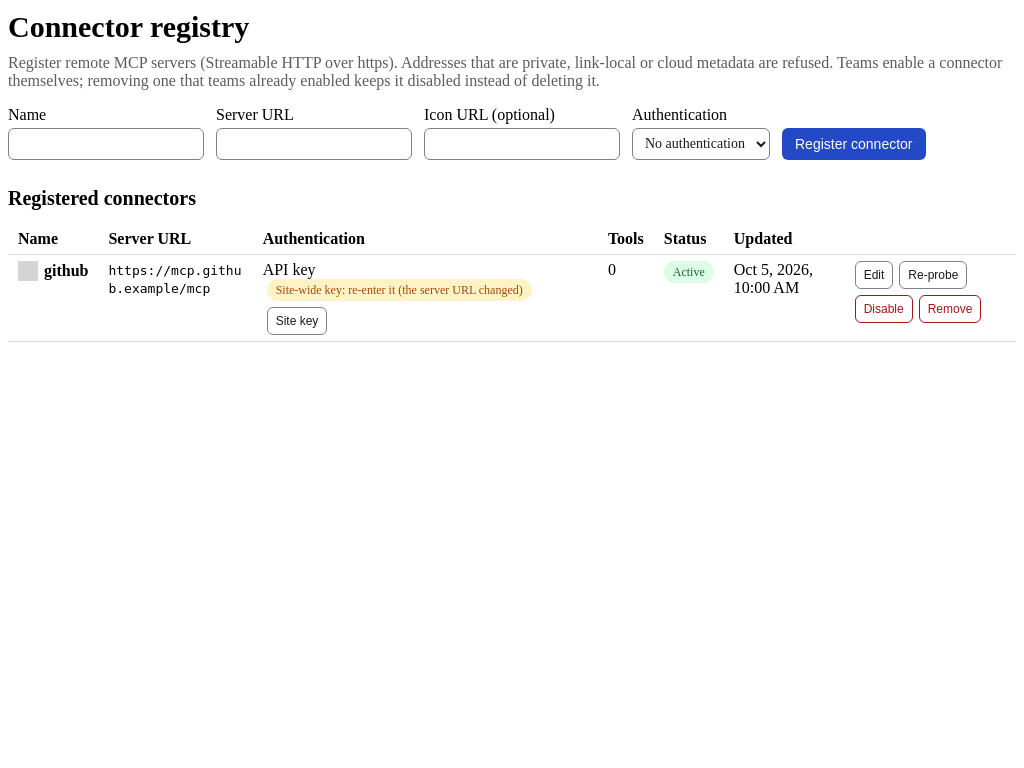
it: site-wide key review follow-ups › says to re-enter a key whose server URL changed (M2)
This screenshot has width=1024, height=768.
Expected: the text "Site-wide key: re-enter it (the server URL changed)" is shown, [267,278,532,300]
Click the button "Site key" at (297, 320), box [267,306,327,334]
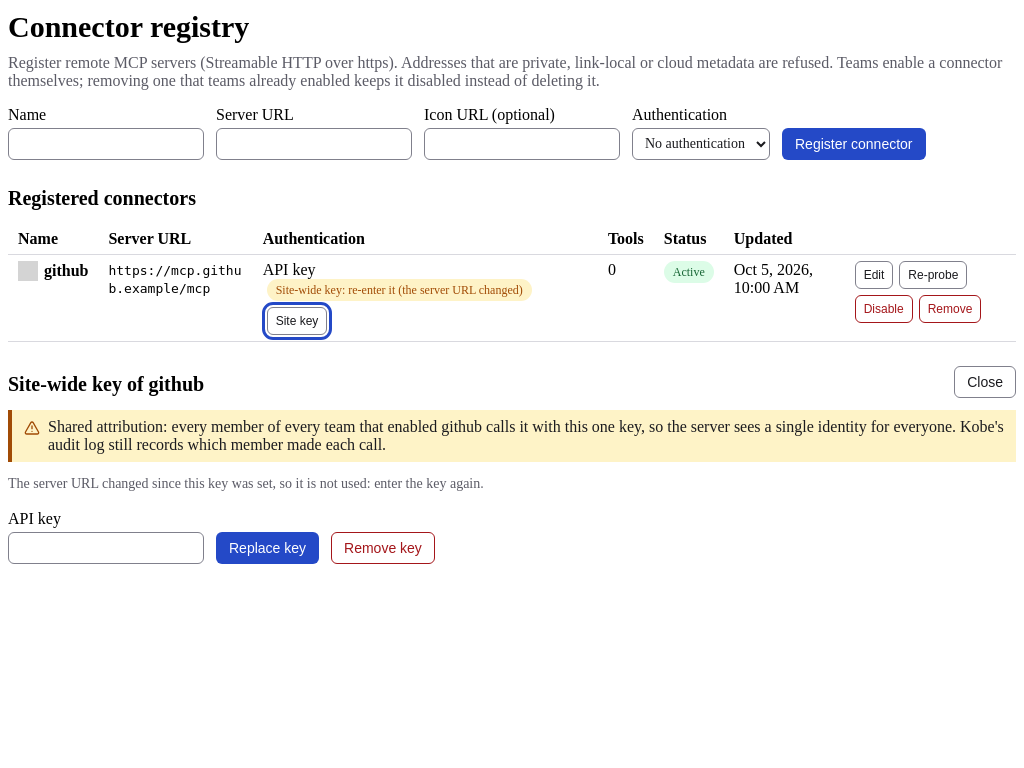
Now the text "enter the key again" is shown, box [8,476,484,490]
